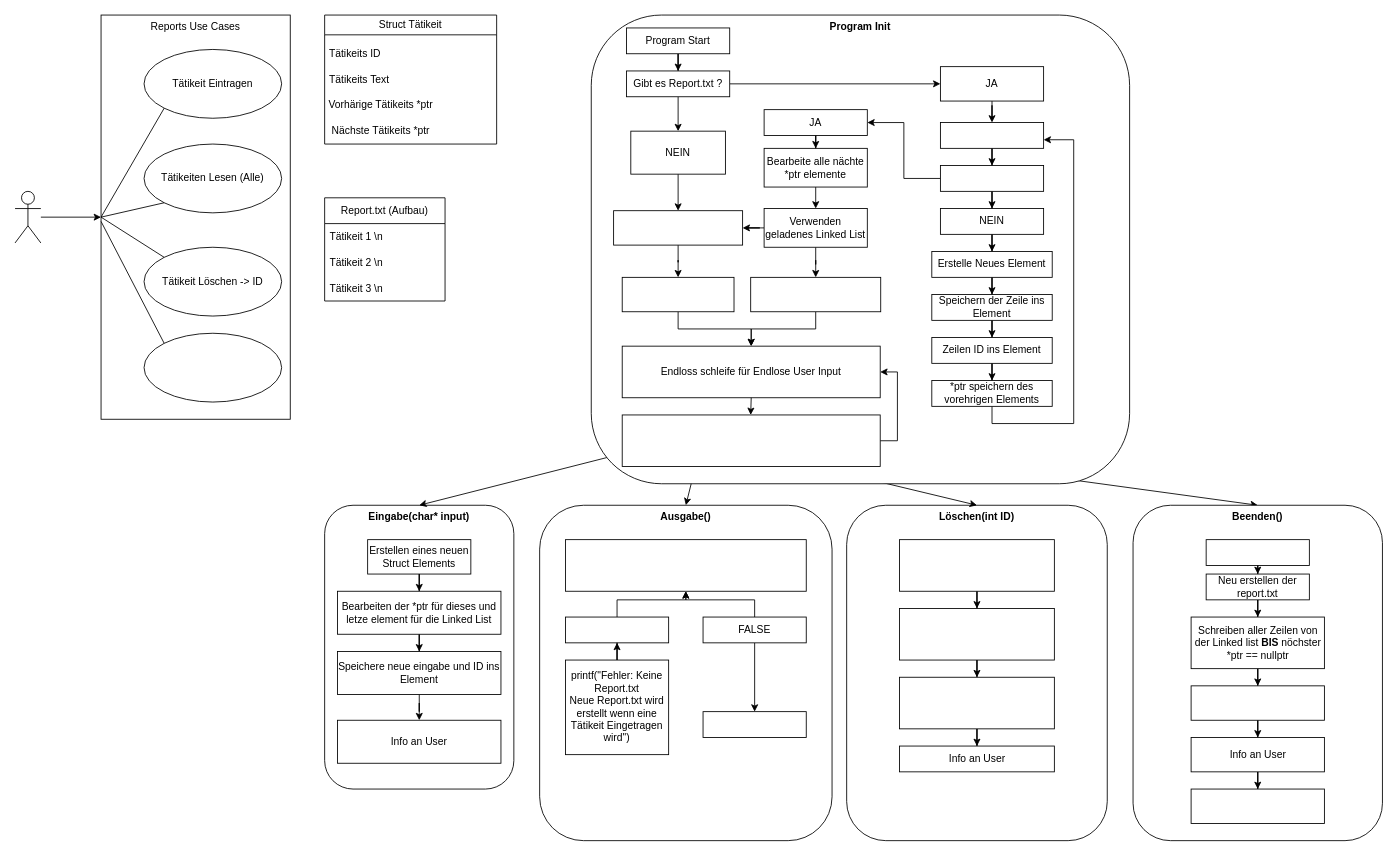
Some shapes in this 1398 by 856 pixel diagram are drawn without their labels. Each missing label, with the centre of its shape:
"Actor" goes at [27,216].
"Ausgabe aller Zeilen" goes at [754,724].
"Bearbeite *ptr für letzte und nächste element bei ID-1 u. ID+1 elemente" goes at [976,634].
"Beenden des Programms" goes at [1257,805].
"Bool emptry_list = false" goes at [815,294].
"Bool emtpy_list = true" goes at [677,294].
"break; Exit die Endloss schleife" goes at [1257,702].
"Check Bool empty_list" goes at [685,565].
"Fange beim ersten element an, und Suche nach übereinstimmender ID" goes at [976,565].
"free(*ptr) von dem Element mit der ID" goes at [976,702].
"Ist Zeile EOF?" goes at [992,178].
"Lese Nächste Zeile" goes at [992,135].
"Lesen der Eingabe und ausführen der Funktion" goes at [750,440].
"Löschen der Alten report.txt" goes at [1257,552].
"Programm Beenden" goes at [212,367].
"TRUE" goes at [617,629].
"Verwende Leeres Linked List" goes at [678,227].
